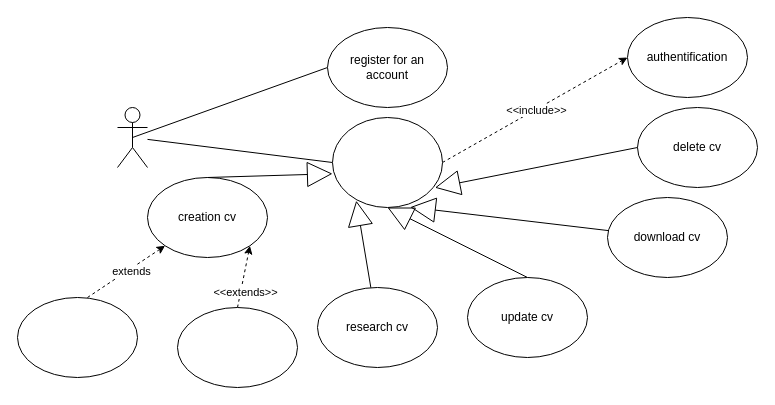
Image size: 775x405. Some labels were removed from this diagram. The centre of each missing label's shape, as x and y in pixels:
cv Canadian: (77,337)
cv European: (237,347)
manage cv: (387,162)
user: (132,137)
